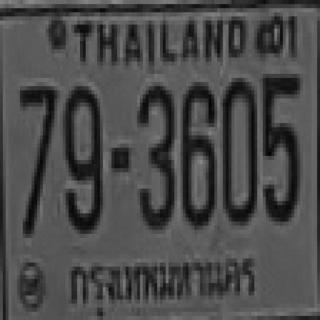N00: (221, 78, 256, 222)
N03: (136, 82, 173, 226)
N05: (261, 72, 299, 220), (260, 72, 297, 158)
N06: (180, 82, 214, 226)
N07: (17, 82, 54, 230), (17, 82, 54, 184)
N09: (63, 82, 100, 230)
P04: (68, 251, 264, 319)
